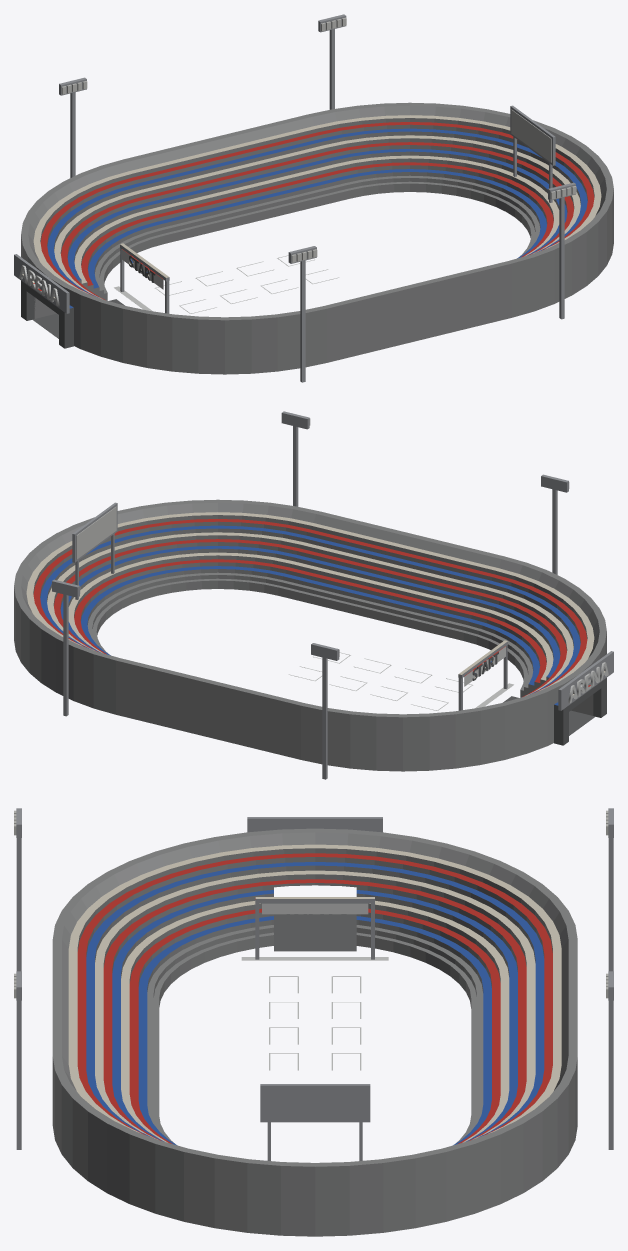
Rendered from city_arena.fbx.
3 views of the same model, one above another, from view 1: azimuth 30°, elevation 25°; view 2: azimuth 150°, elevation 25°; view 3: azimuth 270°, elevation 25° (orthographic). The views are drawn at different scales.
Visible parts, largest first — view 1: concrete_1, cream_1, red_1, blue_1, steel_1, signlit_1, concretedk_1, paintwhite_1; view 2: concrete_1, cream_1, red_1, blue_1, steel_1, concretedk_1, paintwhite_1, signlit_1; view 3: concrete_1, cream_1, red_1, blue_1, steel_1, concretedk_1, paintwhite_1.
Boxes of the visible parts, bbox=[...] form: concrete_1: bbox=[21, 102, 613, 374]; cream_1: bbox=[22, 115, 601, 298]; red_1: bbox=[33, 122, 594, 300]; blue_1: bbox=[47, 128, 587, 308]; steel_1: bbox=[14, 14, 575, 382]; signlit_1: bbox=[61, 17, 576, 262]; concretedk_1: bbox=[21, 256, 155, 348]; paintwhite_1: bbox=[19, 249, 339, 313]; concrete_1: bbox=[14, 499, 606, 771]; cream_1: bbox=[26, 512, 605, 695]; red_1: bbox=[33, 519, 590, 697]; blue_1: bbox=[40, 525, 580, 705]; steel_1: bbox=[52, 411, 613, 779]; concretedk_1: bbox=[472, 652, 606, 745]; paintwhite_1: bbox=[288, 646, 608, 710]; signlit_1: bbox=[76, 418, 569, 656]; concrete_1: bbox=[52, 828, 577, 1236]; cream_1: bbox=[68, 844, 561, 1142]; red_1: bbox=[77, 853, 552, 1143]; blue_1: bbox=[86, 862, 544, 1145]; steel_1: bbox=[16, 808, 613, 1160]; concretedk_1: bbox=[274, 914, 356, 951]; paintwhite_1: bbox=[241, 903, 388, 1070].
Bounding box in the file's own units: 8.88 × 2.04 × 6.54.
